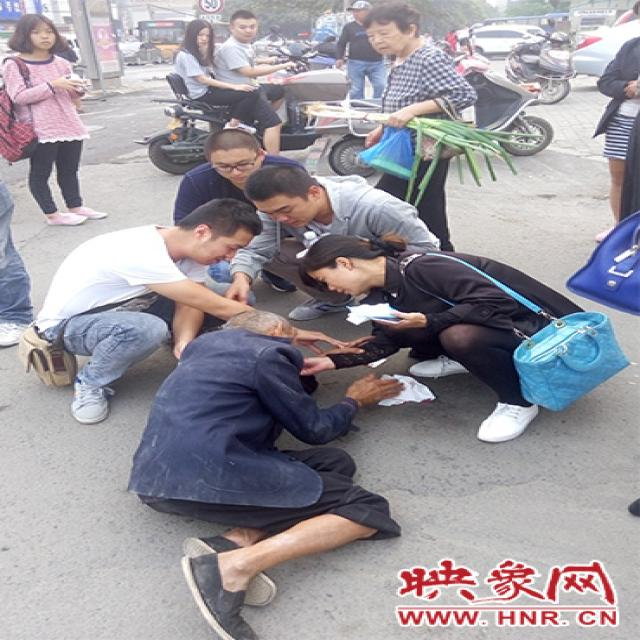10-: (0, 0, 638, 447)
down: (106, 301, 407, 638)
